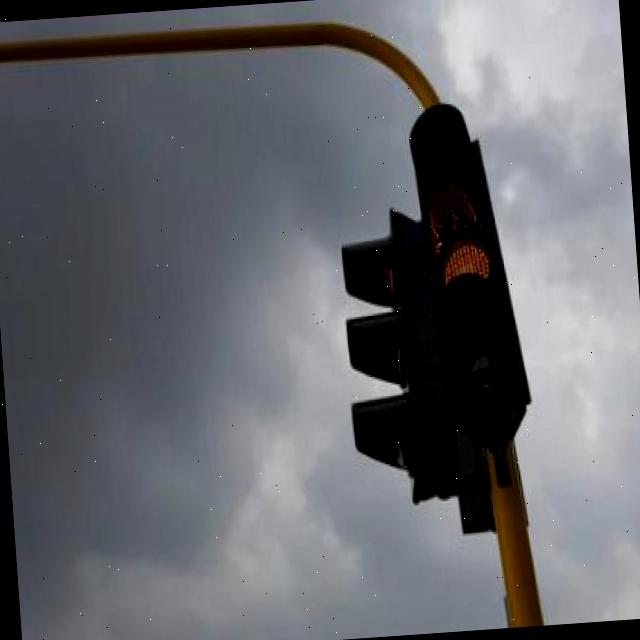yellow_light: (424, 139, 514, 409)
